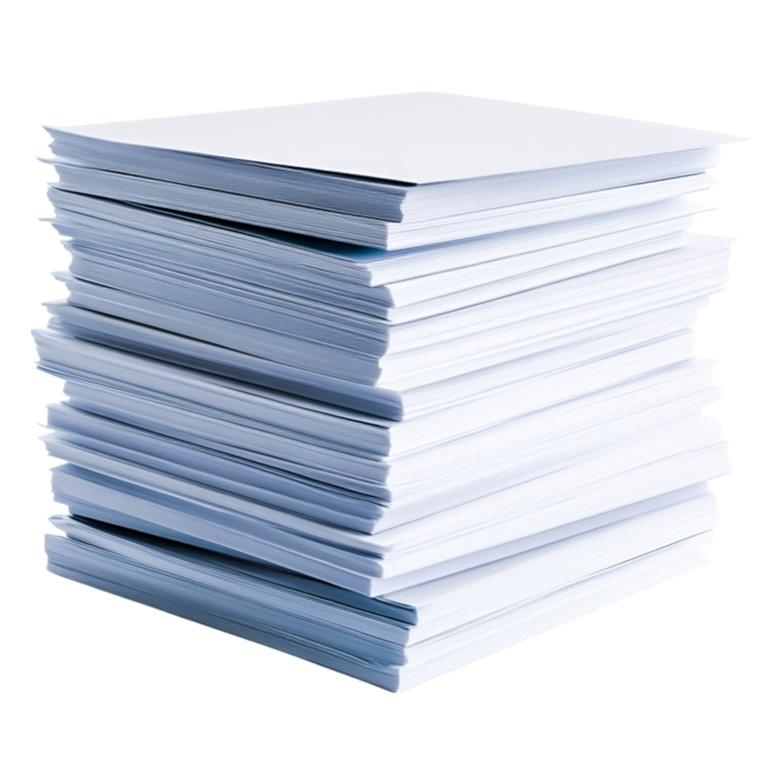plastic: (21, 77, 741, 706)
